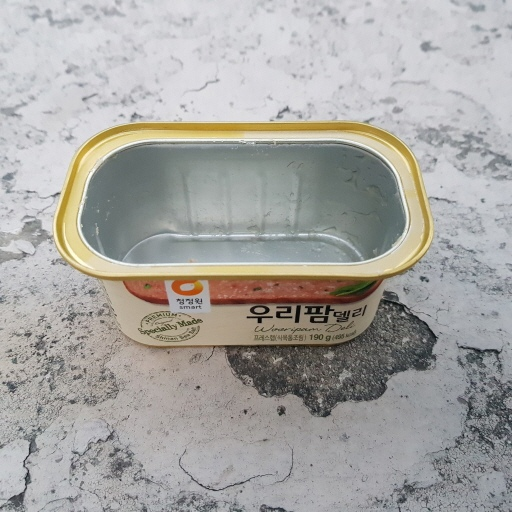Metal_2: (54, 120, 433, 351)
